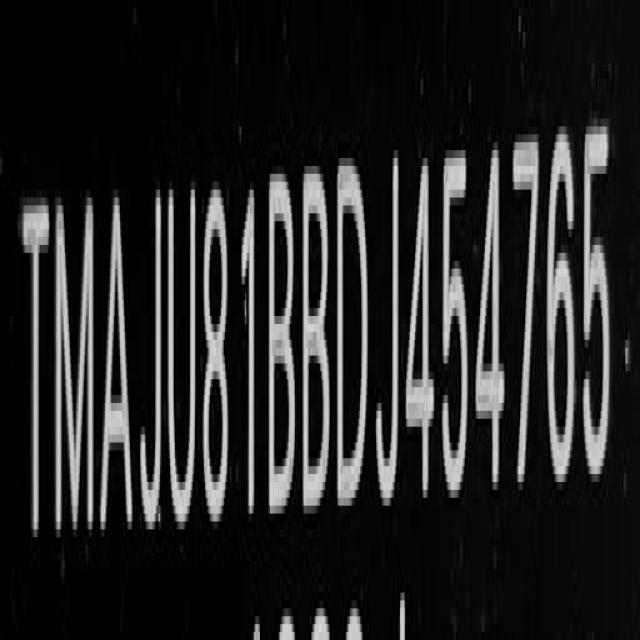1: (239, 190, 260, 521)
4: (474, 138, 507, 498), (404, 152, 436, 503)
5: (441, 137, 470, 518), (582, 129, 612, 480)
6: (544, 111, 578, 495)
7: (509, 123, 543, 509)
8: (201, 193, 232, 533)
A: (100, 190, 136, 533)
B: (299, 158, 332, 538), (265, 176, 298, 538)
D: (334, 158, 369, 521)
J: (372, 146, 405, 521), (140, 182, 162, 548)
M: (53, 190, 99, 553)
T: (20, 196, 52, 542)
U: (165, 185, 200, 548)
